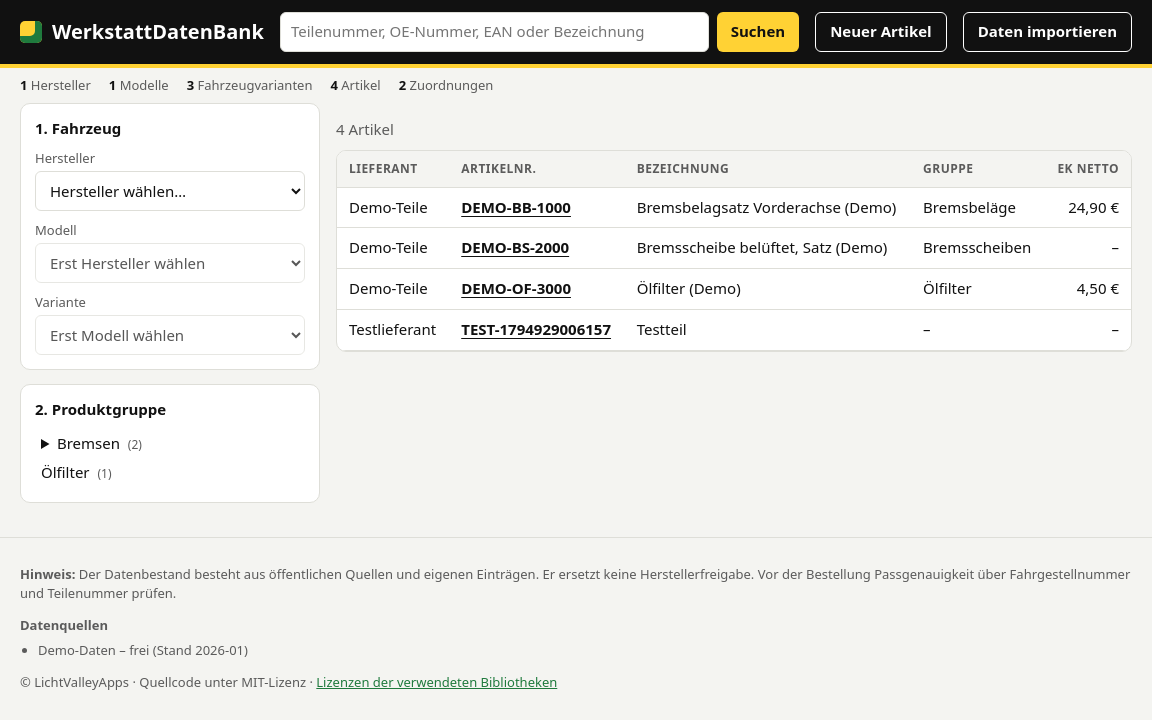
Test: WerkstattDatenBank › Daten importieren (Testdaten) › zeigt Fehler samt technischen Details
The image size is (1152, 720).
Click the button "Daten importieren". click: [1047, 32]
box: [963,12,1132,52]
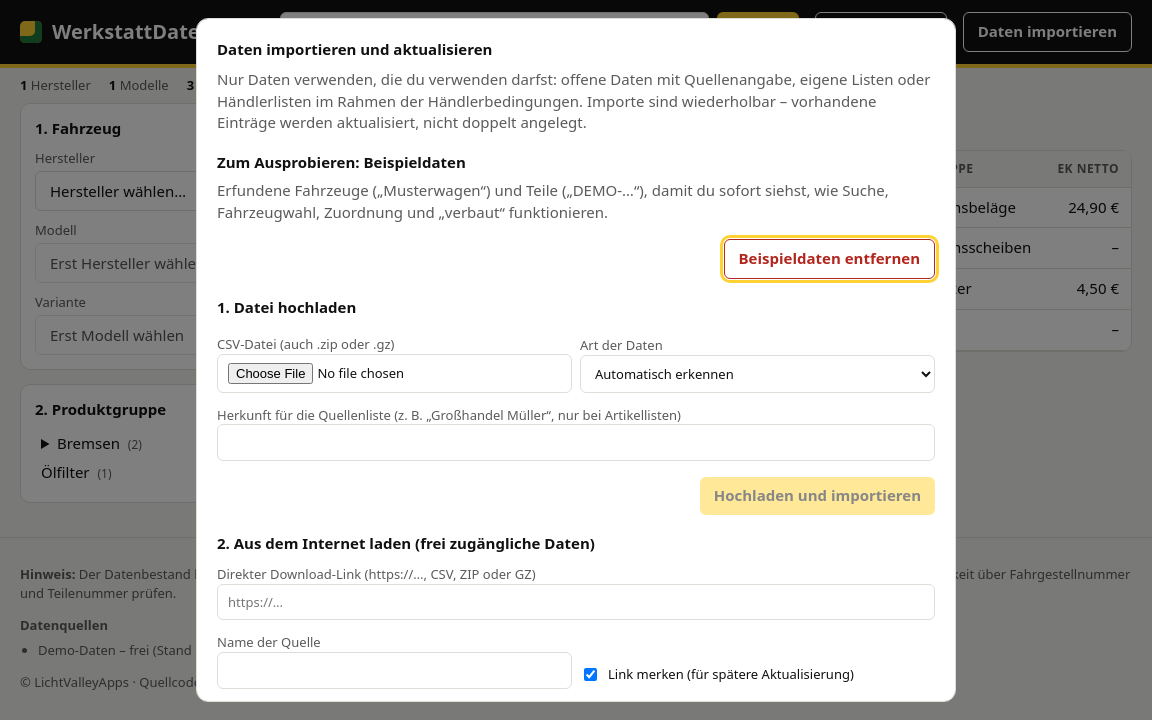
Check: the dialog with class "import" is shown
Type "https://example.org/fehler.csv" into the field labelled "Direkter Download-Link (https://…, CSV, ZIP oder GZ)". click: [576, 602]
box: [217,584,935,620]
(page scrolled)
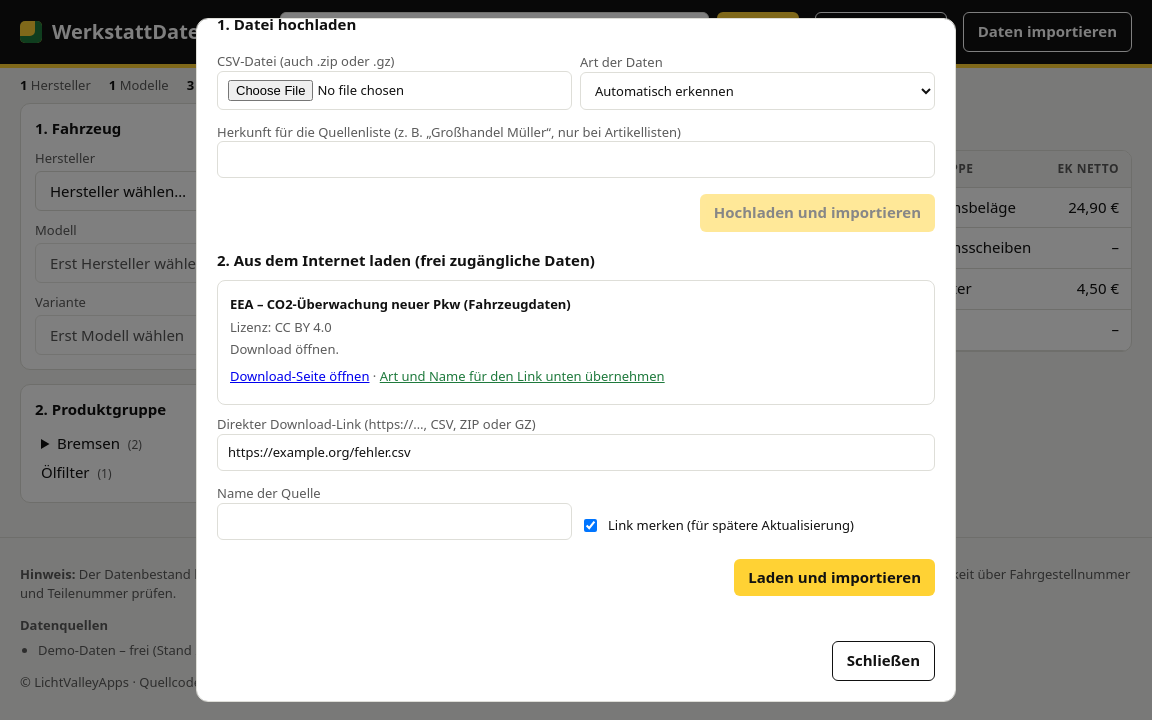
Click the button "Laden und importieren". click: [835, 577]
box: [734,558,935,596]
(page scrolled)
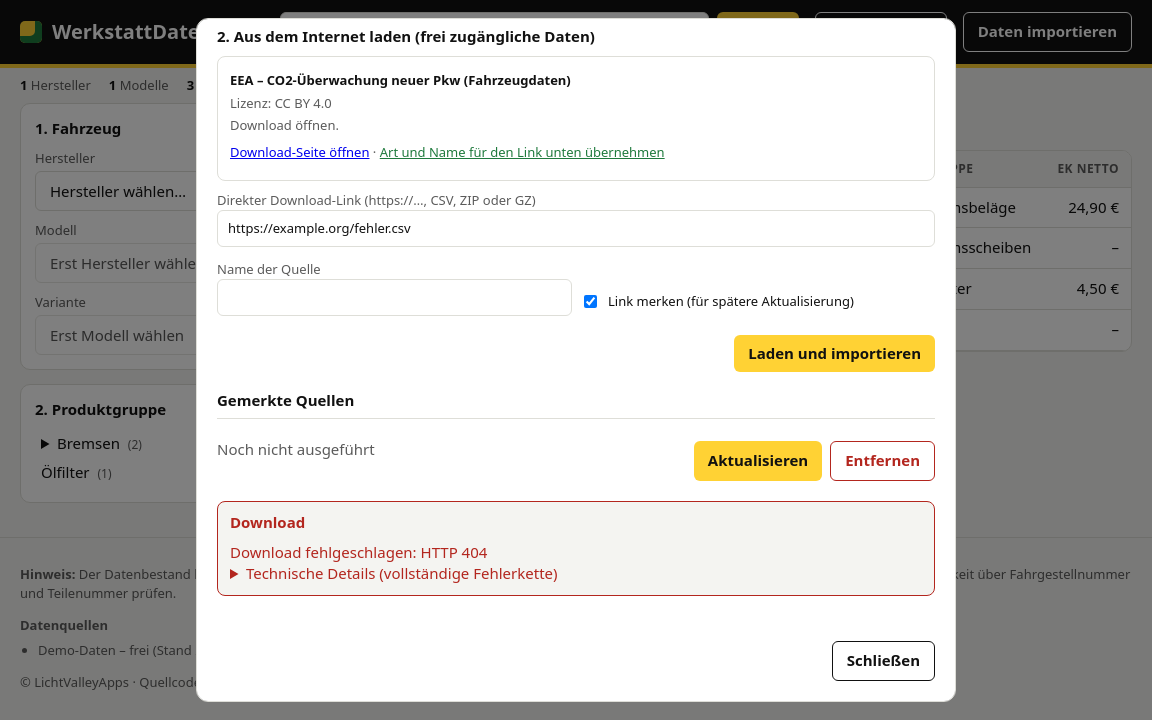
Check: the text "Download fehlgeschlagen: HTTP 404" is shown, box [230,542,487,562]
Check: the heading "Technische Details (vollständige Fehlerkette)" is shown, box [246,563,558,583]
